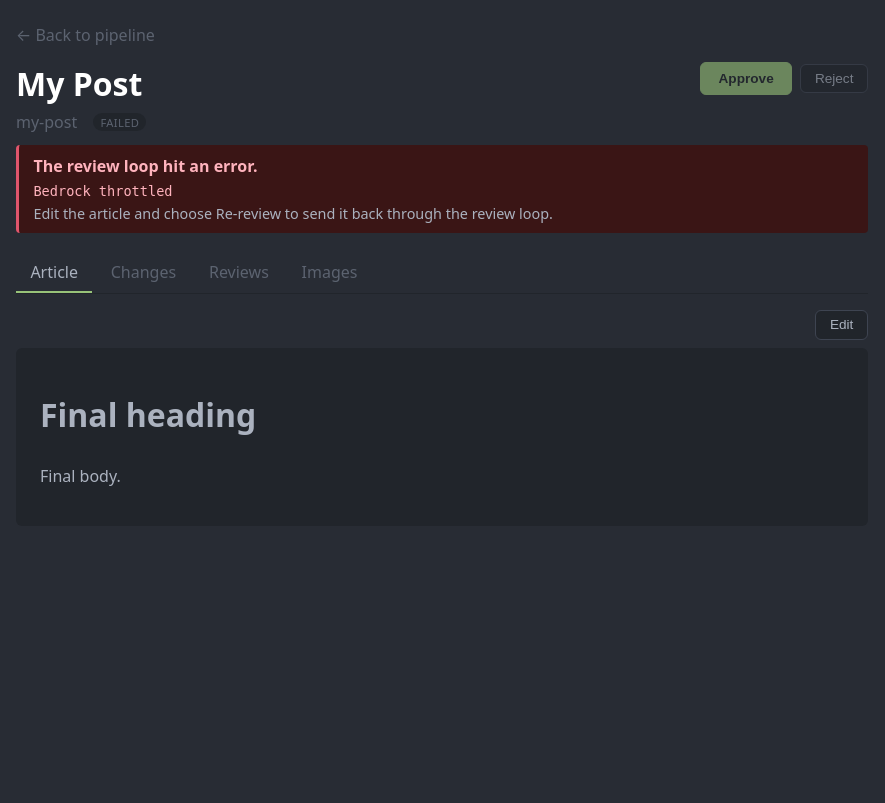
Test: PostDetail — failed posts (PIPE-36) › surfaces save and re-review errors
Expected: the heading "My Post" is shown, left=16, top=62, right=146, bottom=105
What coordinates should you click on to do the following:
click the button "Edit"
I would click on:
 (842, 325)
Its box is left=815, top=310, right=868, bottom=340.
(page scrolled)
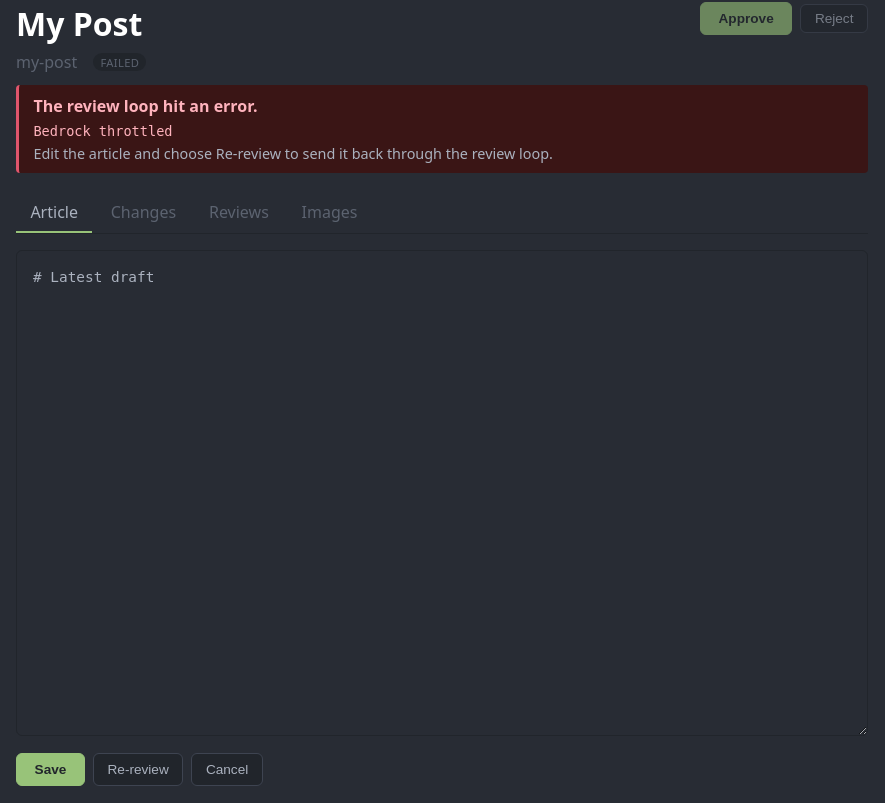
Expected: the text box named "Edit article Markdown" is shown, left=16, top=250, right=868, bottom=736
What coordinates should you click on to do the following:
click the button "Save"
I would click on:
 (50, 769)
Its box is left=16, top=753, right=85, bottom=786.
(page scrolled)
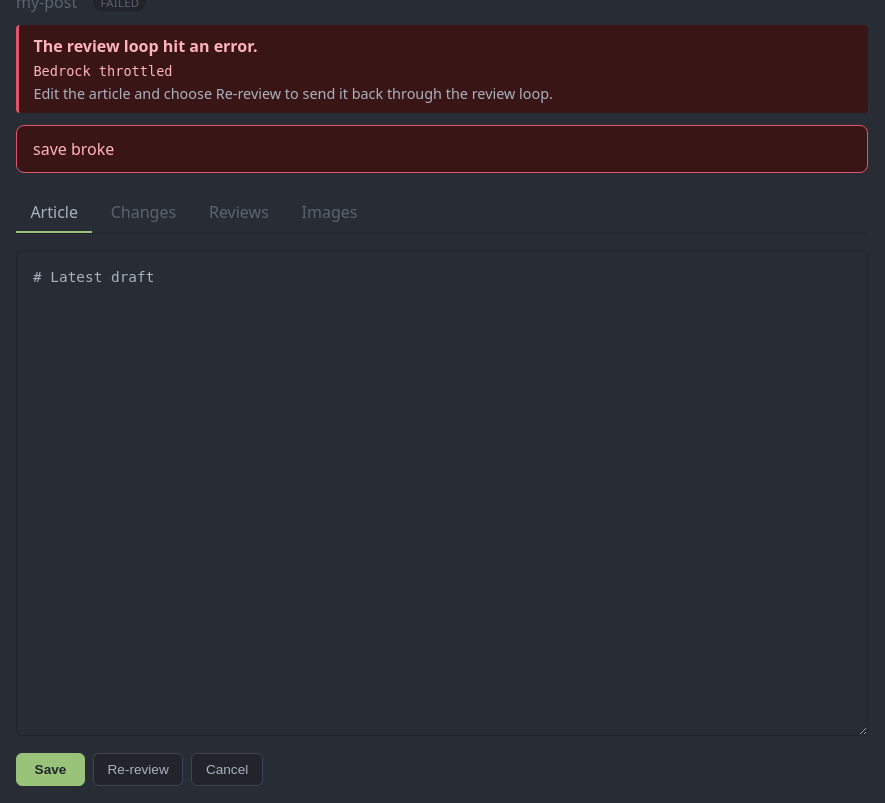
Expected: the message reads "save broke", left=33, top=138, right=114, bottom=160
What coordinates should you click on to do the following:
click the button "Re-review"
I would click on:
 (138, 769)
Its box is left=93, top=753, right=183, bottom=786.
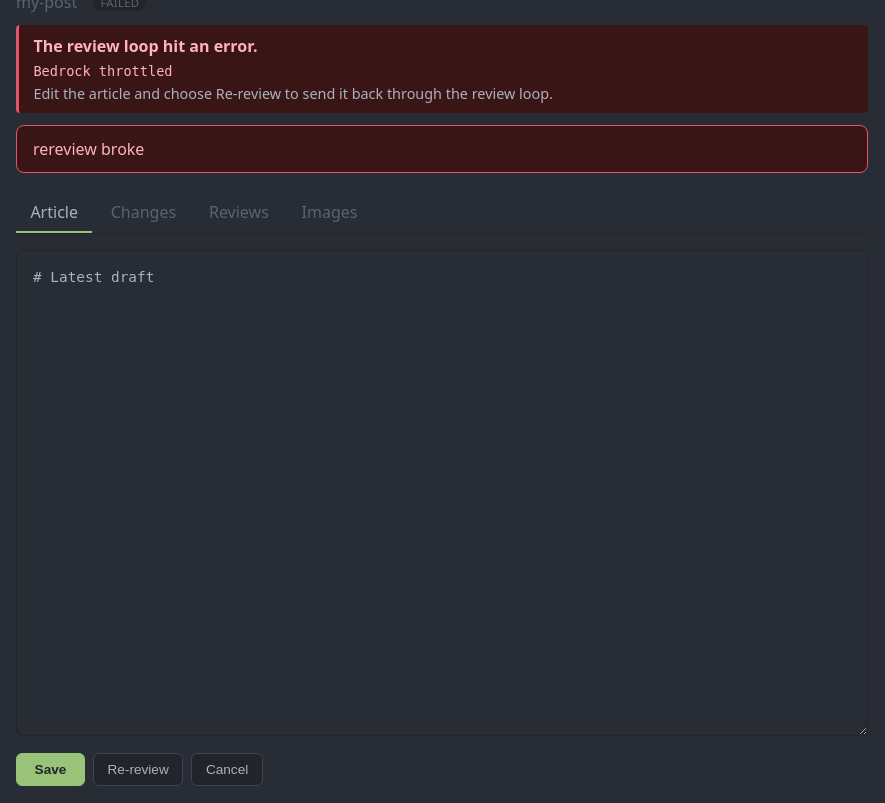
Expected: the message reads "rereview broke", left=33, top=138, right=144, bottom=160
